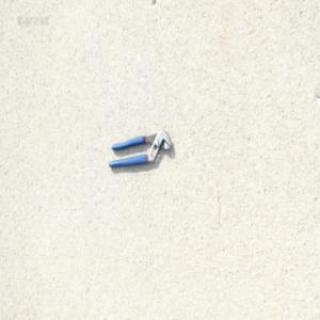Pliertrack_idkeyframe: (107, 128, 172, 168)
